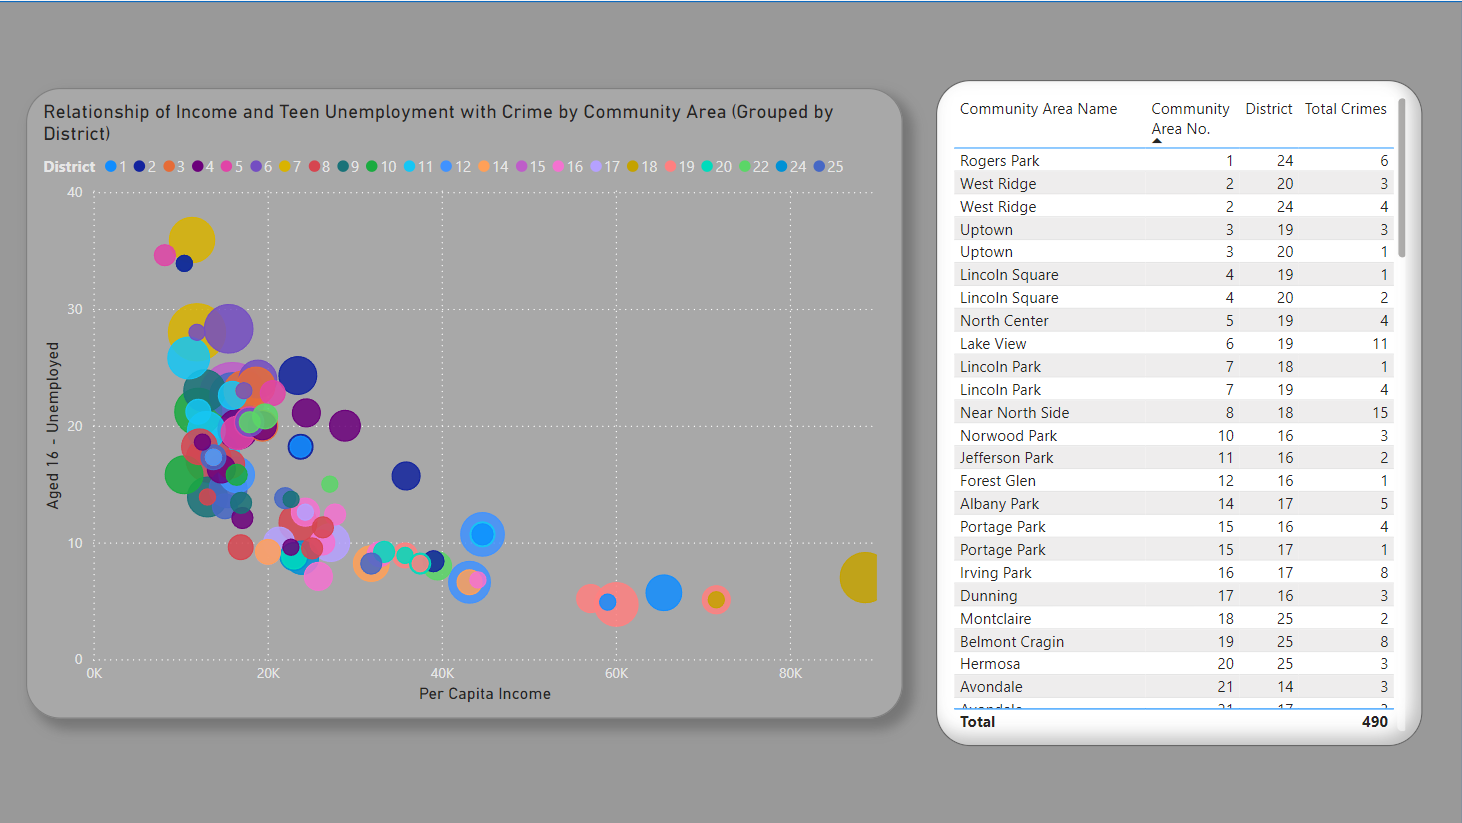

Layout of this report page (visuals, bound fields, positions):
{"tool":"powerbi","page":{"name":"The Bubble-scatter","canvas":[1280,720],"ordinal":5},"visuals":[{"type":"shape","box":[0,0,1280,719.8],"z":0},{"type":"scatterChart","title":"Relationship of Income and Teen Unemployment with Crime by Community Area (Grouped by District)","fields":{"X":["public census.per_capita_income"],"Size":["public crime.Total Crimes"],"Series":["public crime.district"],"Y":["public census.percent_aged_16__unemployed"]},"box":[24.3,75.9,766.4,550.5],"z":1000},{"type":"tableEx","fields":{"Values":["public census.community_area_name","public census.community_area_number","public crime.district","public crime.Total Crimes"]},"box":[819.9,69.1,425,581.6],"z":2000}]}

Visuals, with their boxes in screenshot pixels (x1, y1, x2, y2), scaled from the page's 1280x720 canvas onto the 1462x823 screenshot:
shape: <region>0, 0, 1461, 822</region>
"Relationship of Income and Teen Unemployment with Crime by Community Area (Grouped by District)" scatterChart: <region>28, 87, 903, 716</region>
tableEx - public census.community_area_name x public census.community_area_number: <region>936, 79, 1422, 744</region>
